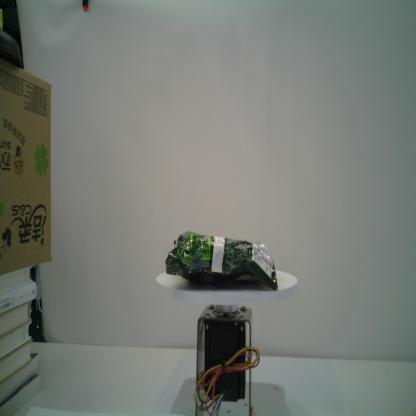Instant Noodles: (165, 230, 278, 292)
